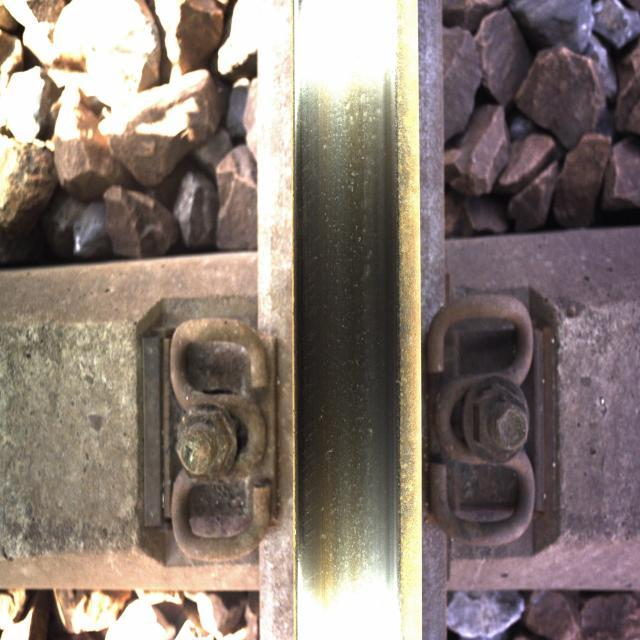normal: (305, 48, 387, 538)
